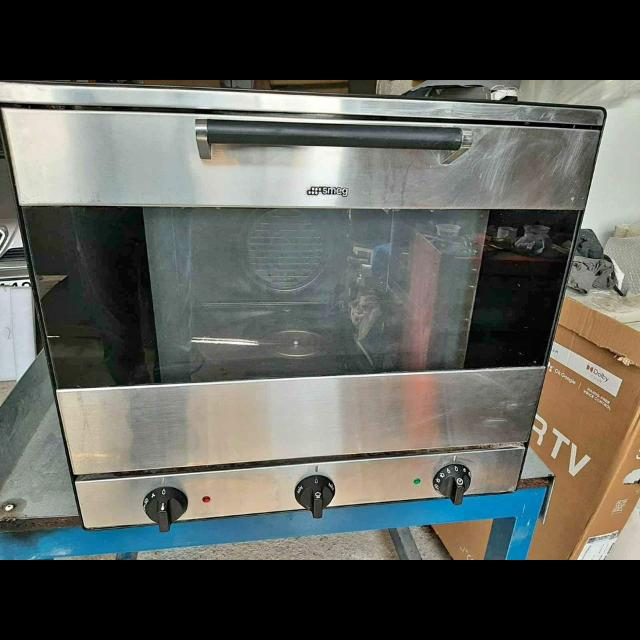Oven: (1, 100, 582, 496)
